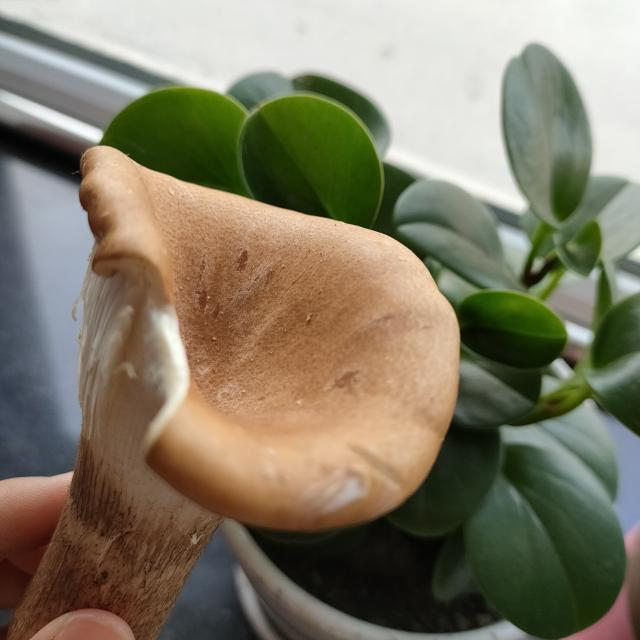Clitocybe maxima: (6, 147, 460, 636)
